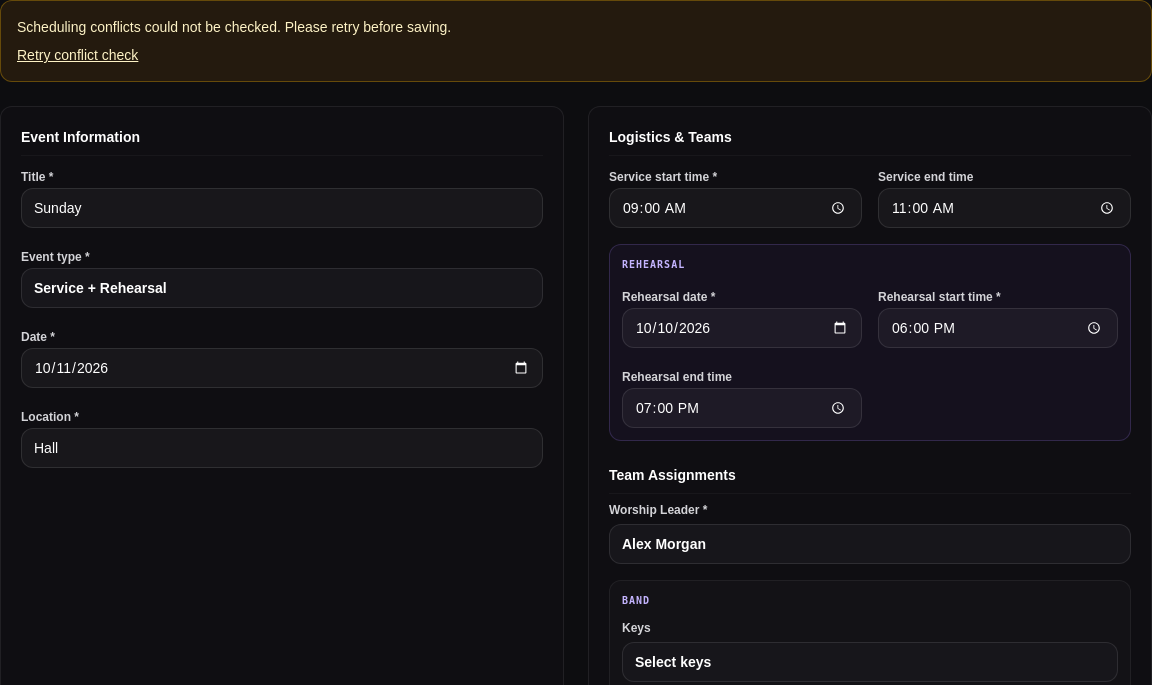
Test case: Event conflict feedback › includes service and rehearsal windows and visibly reports unavailable checks with retry
Expected: the message shows "could not be checked", [17,19,451,35]
Click the button "Retry conflict check" at (78, 55), box [17,45,138,65]
Wait 500 ms
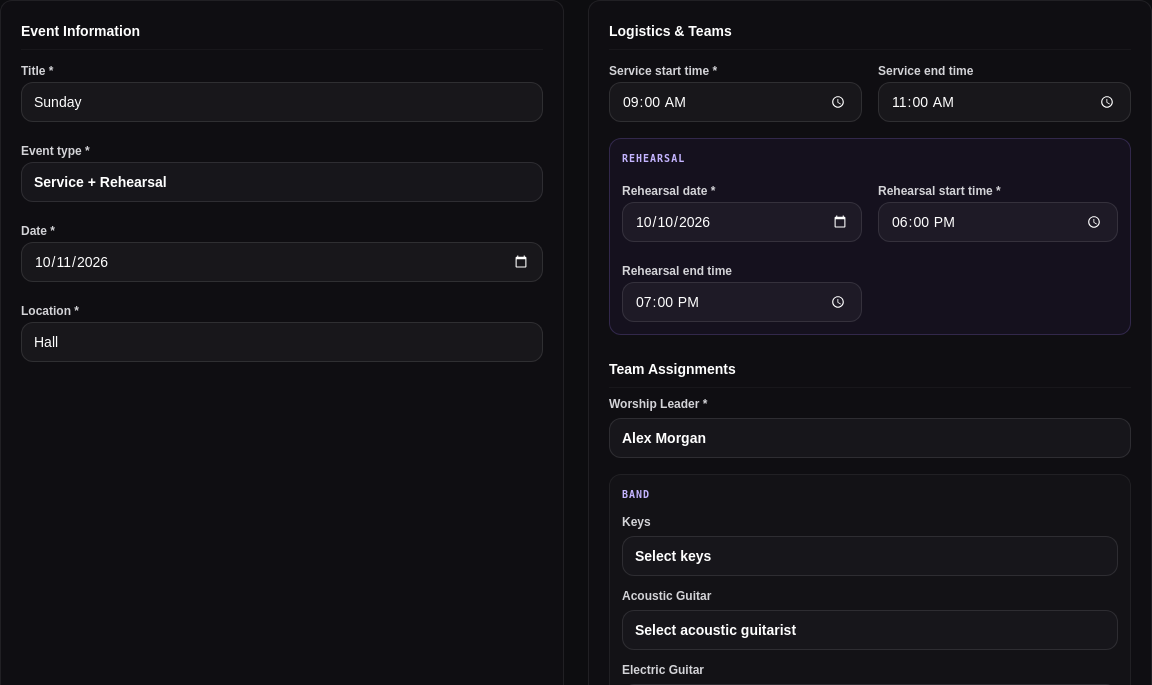
Expected: the message is gone
